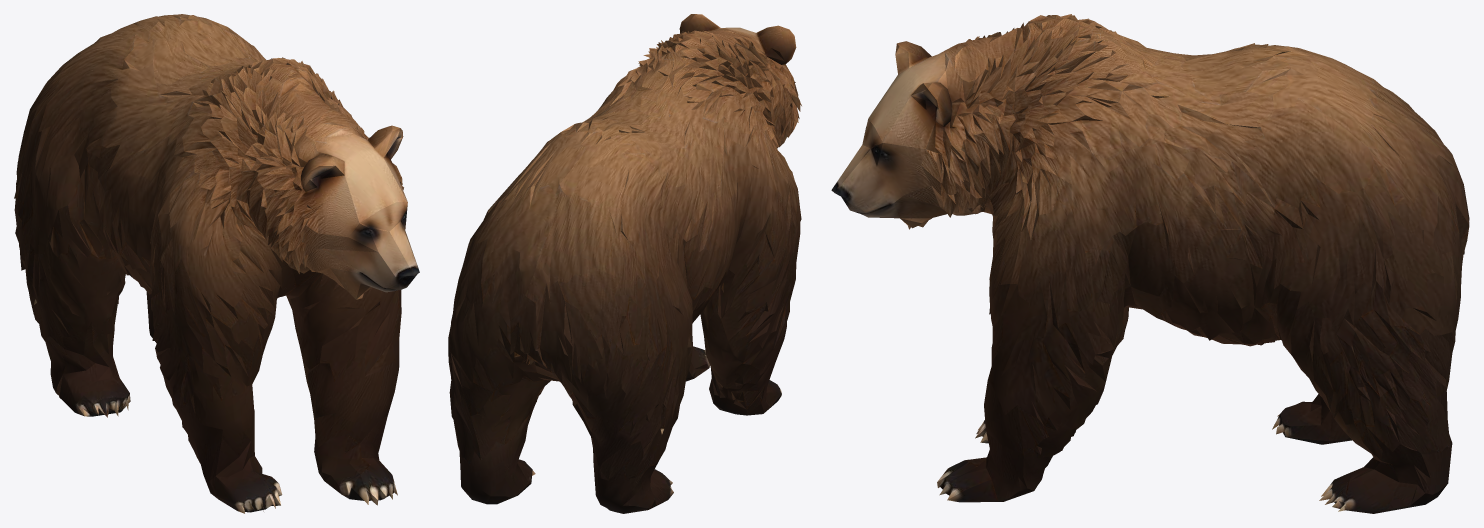
Rendered from ours-brun.glb.
The picture shows the model from 3 angles, left to right: view 1: azimuth 30°, elevation 25°; view 2: azimuth 150°, elevation 25°; view 3: azimuth 270°, elevation 25°; orthographic projection. The views are drawn at different scales.
Size of the model in its own units: 0.862 by 1.47 by 1.9.
1 material, 1 textured.
